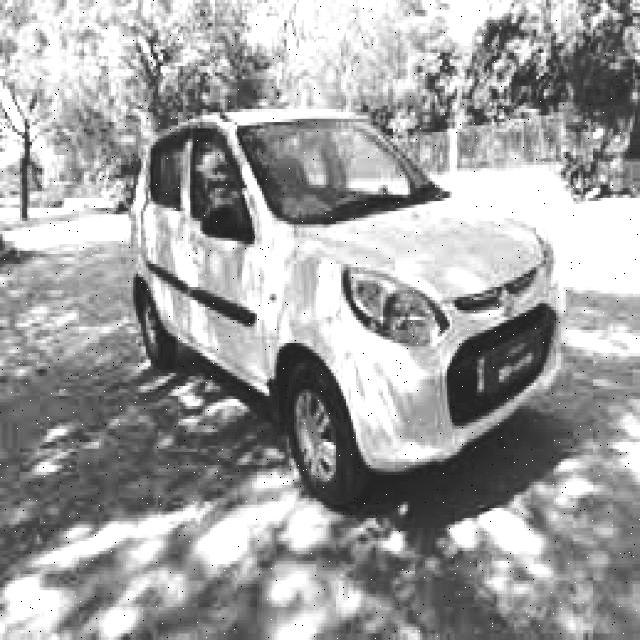Car: (124, 99, 570, 511)
